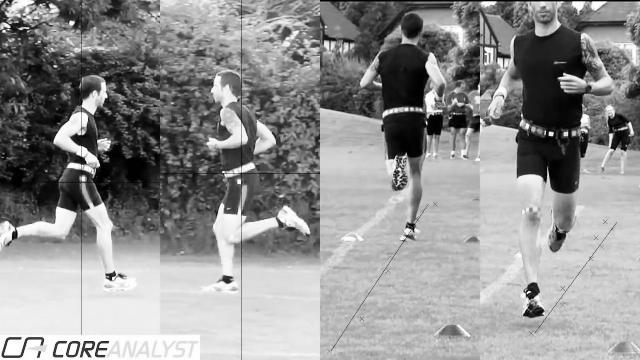berlari: (494, 0, 618, 332), (184, 49, 316, 289), (0, 72, 140, 298), (358, 1, 439, 253)
